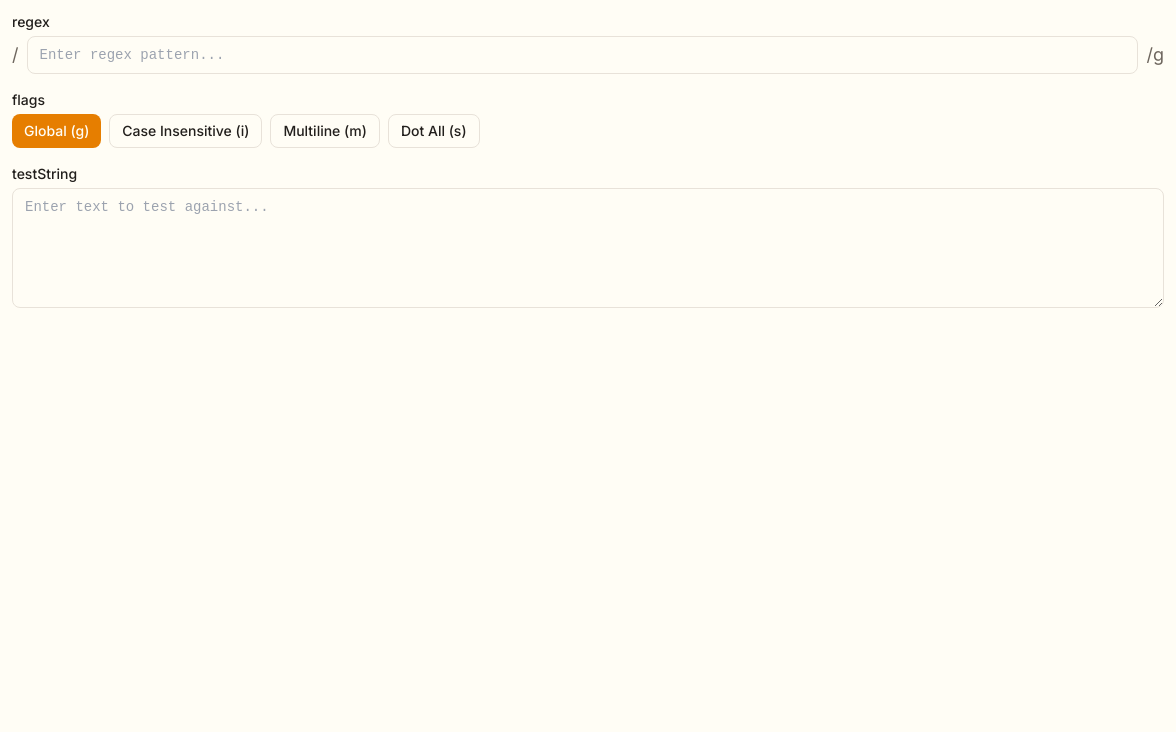
RegexTester › finds global matches in test string
The width and height of the screenshot is (1176, 732).
Type "\\d+" into the field with placeholder "Enter regex pattern..." at (582, 55), box [26,36,1138,74]
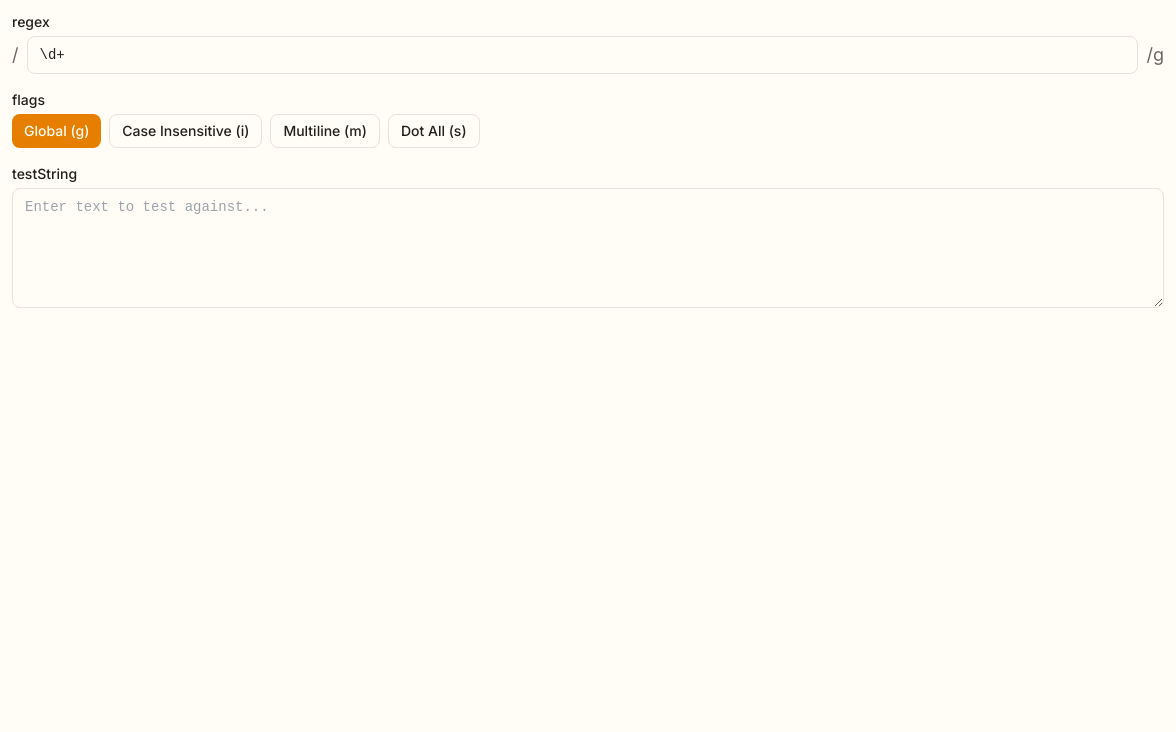
Type "abc 123 def 456" into the text box with placeholder "Enter text to test against..." at (588, 248), box [12,188,1164,308]
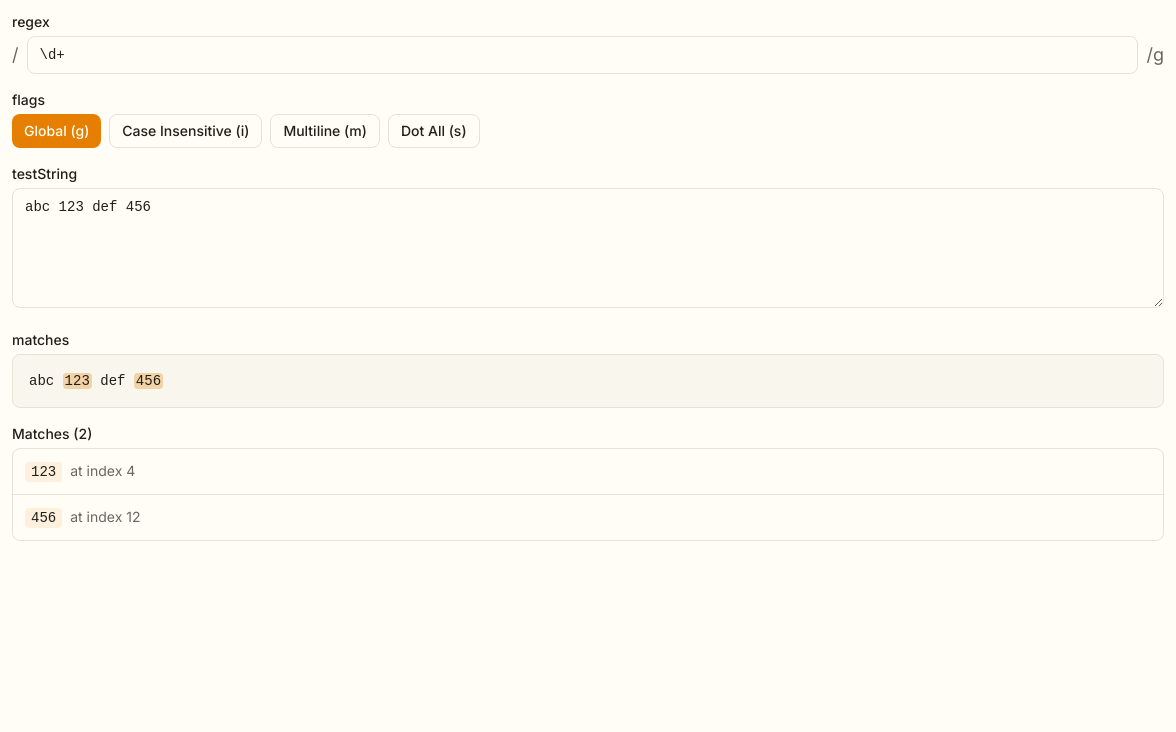
Now the text "Matches (2)" is shown, box [12,425,92,442]
Now the text "at index 4" is shown, box [70,462,135,479]
Now the text "at index 12" is shown, box [70,508,140,525]
